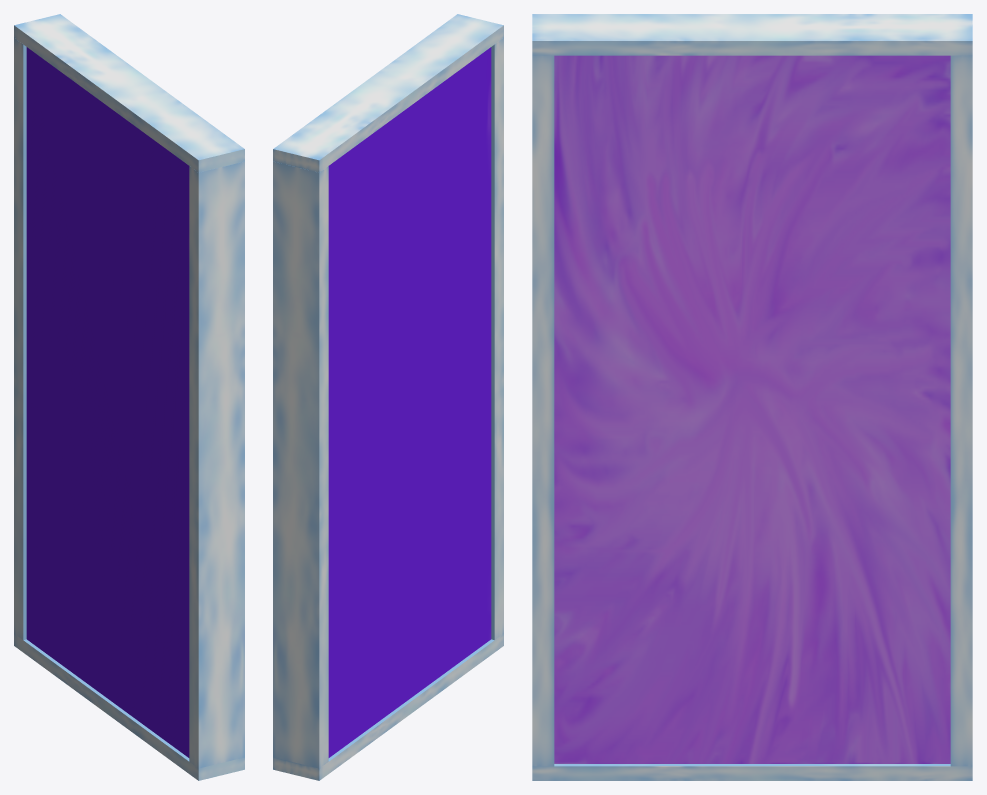
File: unity 2022 space portal.fbx
3 views of the same model, side by side, from view 1: azimuth 30°, elevation 25°; view 2: azimuth 150°, elevation 25°; view 3: azimuth 270°, elevation 25° (orthographic). The views are drawn at different scales.
Parts seen in each view (by area): view 1: portal, ray; view 2: portal, ray; view 3: portal, ray.
Boxes of the visible parts, x1,y1,x2,y2 form: portal: [26, 47, 189, 757]; ray: [14, 14, 244, 780]; portal: [328, 47, 491, 757]; ray: [273, 14, 503, 780]; portal: [554, 55, 950, 763]; ray: [532, 14, 972, 780].
Size of the model in its own units: 5.27 by 67.61 by 36.44.
Materials: 3 (3 with a texture image).
